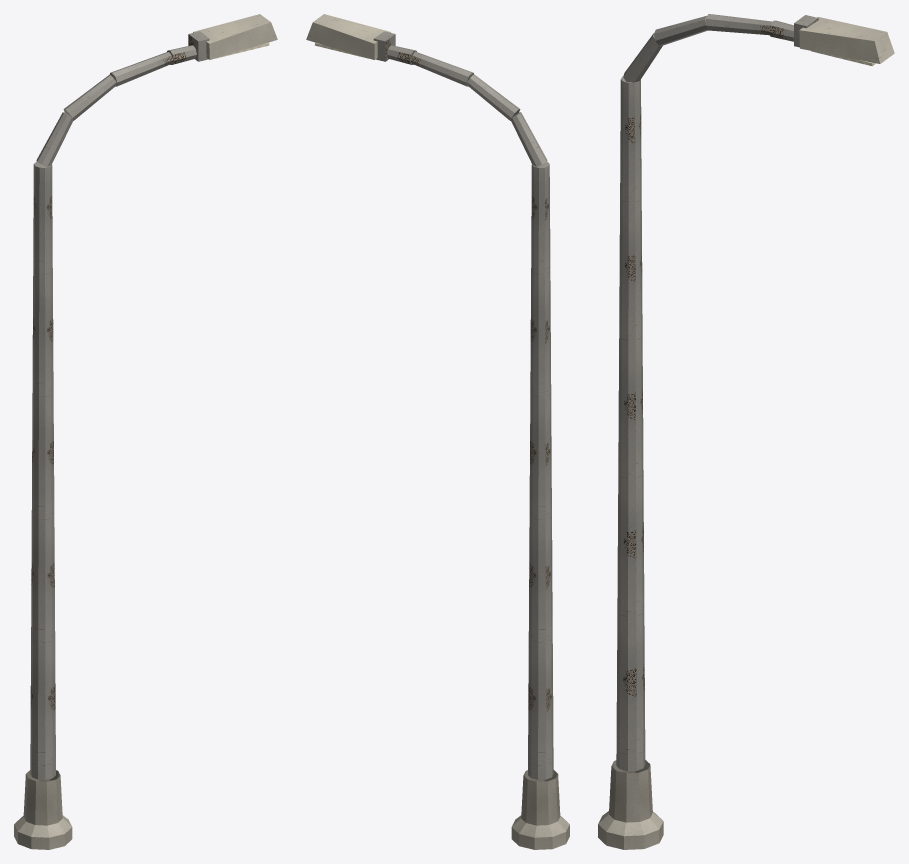
The model's file is streetlight_v2.glb.
The picture shows the model from 3 angles, left to right: view 1: azimuth 30°, elevation 25°; view 2: azimuth 150°, elevation 25°; view 3: azimuth 330°, elevation 25°; orthographic projection. The views are drawn at different scales.
Visible parts, largest first — view 1: Variant_streetlight_2; view 2: Variant_streetlight_2; view 3: Variant_streetlight_2.
Boxes of the visible parts, <box> form: Variant_streetlight_2: <box>14,14,277,849</box>; Variant_streetlight_2: <box>306,14,569,849</box>; Variant_streetlight_2: <box>598,14,894,849</box>.
Size of the model in its own units: 2.6 by 7.5 by 0.4945.
4 materials, 4 textured.
